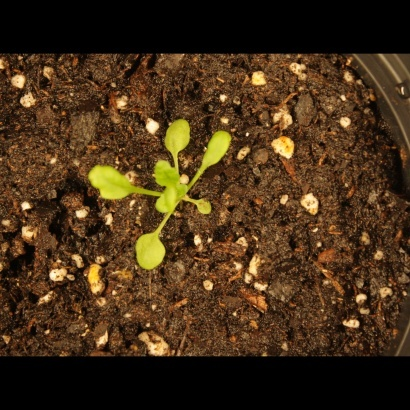leaf: (85, 158, 139, 204), (132, 227, 171, 275), (200, 128, 235, 170), (162, 116, 195, 157), (151, 158, 184, 191), (191, 192, 220, 222), (156, 190, 179, 215)
